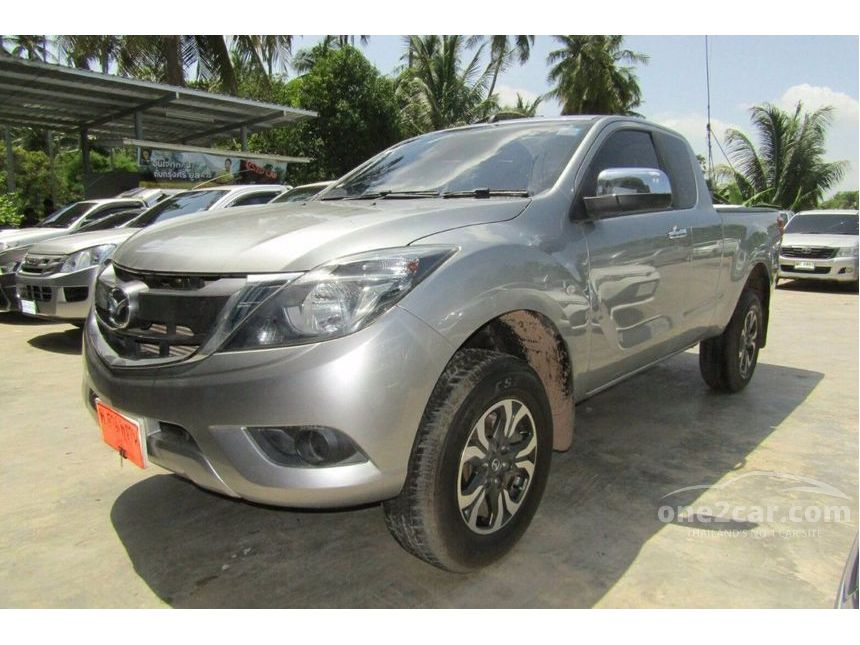pickup: (76, 111, 783, 578)
